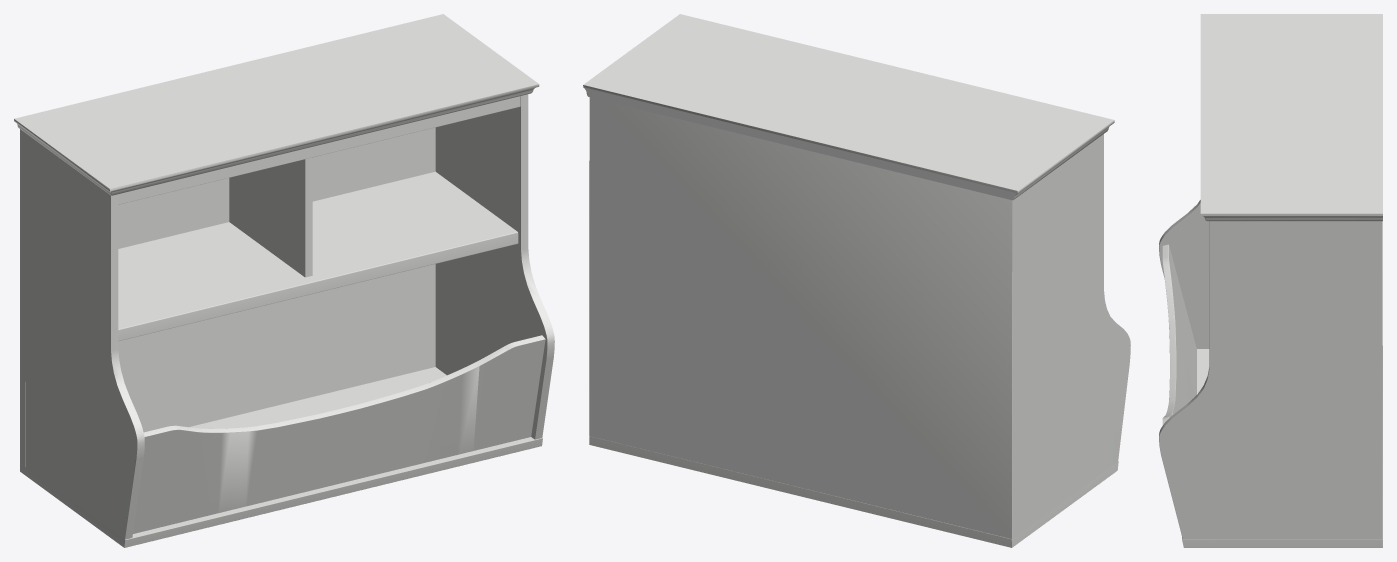
Rendered from toy_storage_abo_B07PJTHFFW.glb.
3 renders of one model, left to right at view 1: azimuth 30°, elevation 25°; view 2: azimuth 150°, elevation 25°; view 3: azimuth 270°, elevation 25°, orthographic. The views are drawn at different scales.
Visible parts, largest first — view 1: RootNode; view 2: RootNode; view 3: RootNode.
Part boxes in pixels (x1,y1,x2,y2): RootNode: [14, 14, 554, 547]; RootNode: [583, 14, 1130, 547]; RootNode: [1159, 14, 1382, 547].
Size of the model in its own units: 0.7924 by 0.6249 by 0.3759.
1 material, 1 textured.
